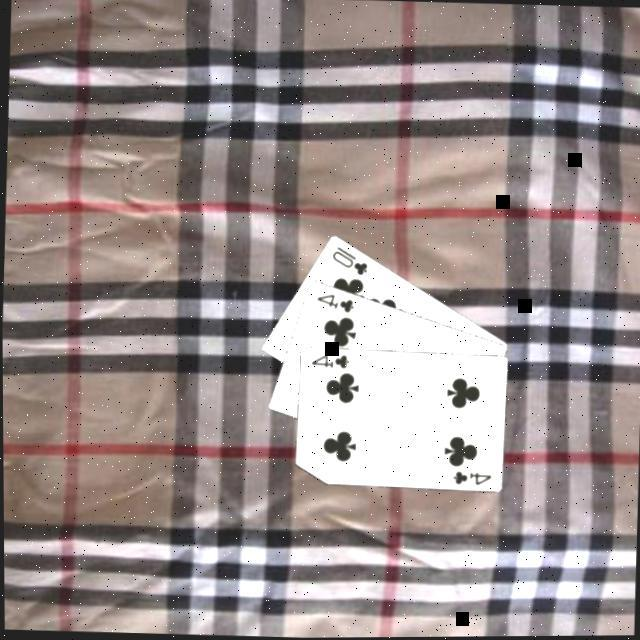10C: (328, 243, 372, 279)
4C: (314, 290, 359, 317), (449, 469, 496, 491), (308, 350, 353, 372)
